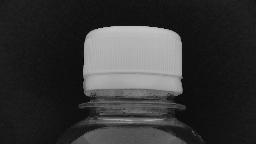Loose Cap: (73, 72, 191, 116)
